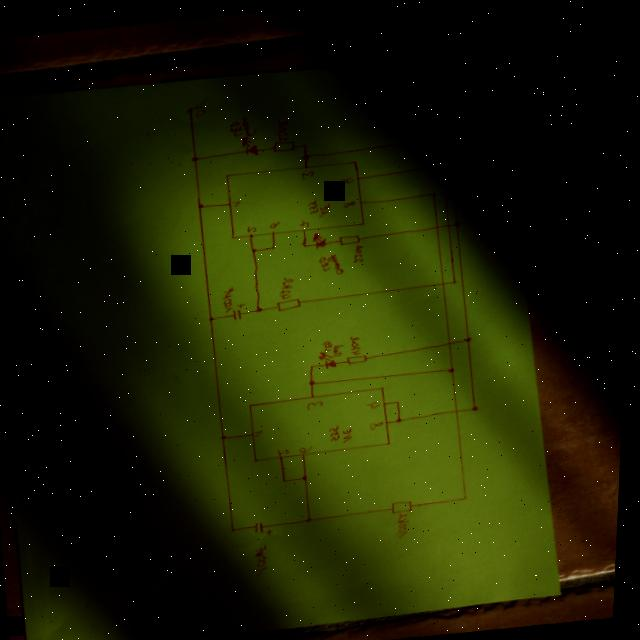capacitor: (258, 518, 280, 535), (234, 300, 250, 319)
crossover: (441, 277, 450, 284), (436, 220, 444, 227), (449, 337, 457, 344), (457, 404, 465, 411), (441, 158, 448, 165), (448, 219, 455, 226)
diode: (241, 133, 262, 156), (321, 347, 342, 368), (314, 229, 331, 248)
junction: (310, 376, 322, 385), (305, 471, 315, 480), (302, 151, 313, 159), (309, 514, 320, 522), (192, 153, 203, 161), (210, 313, 220, 321), (258, 303, 268, 311), (449, 156, 458, 164), (475, 401, 484, 409), (234, 524, 243, 532), (302, 139, 311, 147), (284, 474, 294, 481), (223, 432, 233, 439), (311, 360, 321, 367), (252, 245, 261, 252), (198, 201, 207, 208), (455, 218, 464, 225), (451, 364, 460, 371), (399, 414, 408, 421), (397, 396, 406, 403), (467, 333, 476, 340), (454, 275, 462, 282), (438, 132, 445, 139), (433, 187, 440, 194), (304, 240, 311, 246), (273, 242, 279, 248), (467, 493, 473, 498)
resistor: (279, 295, 306, 311), (395, 496, 419, 512), (273, 137, 299, 151), (340, 231, 365, 244), (349, 351, 372, 363)
terminal: (186, 103, 197, 112), (442, 91, 452, 99)
text: (321, 249, 348, 275), (229, 113, 259, 136), (258, 542, 277, 576), (332, 420, 359, 443), (310, 195, 334, 216), (399, 509, 417, 536), (279, 274, 299, 298), (324, 336, 349, 355), (223, 284, 239, 311), (448, 75, 464, 98), (277, 116, 292, 140), (195, 95, 211, 116), (353, 242, 368, 260), (352, 333, 365, 353), (310, 398, 328, 408), (373, 418, 389, 428), (303, 168, 317, 178), (370, 398, 385, 407), (303, 443, 318, 451), (249, 223, 260, 232), (301, 217, 312, 226), (281, 447, 295, 454), (272, 219, 284, 227), (343, 174, 356, 181), (345, 199, 358, 206), (257, 428, 269, 435), (234, 197, 245, 204)
